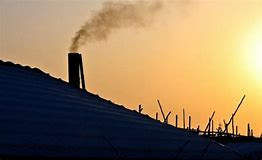smoke: (67, 1, 133, 52)
